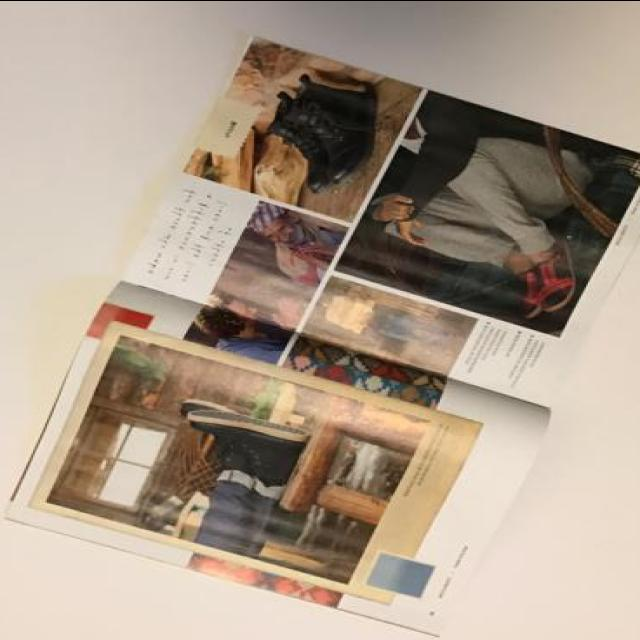kertas: (5, 31, 640, 637)
